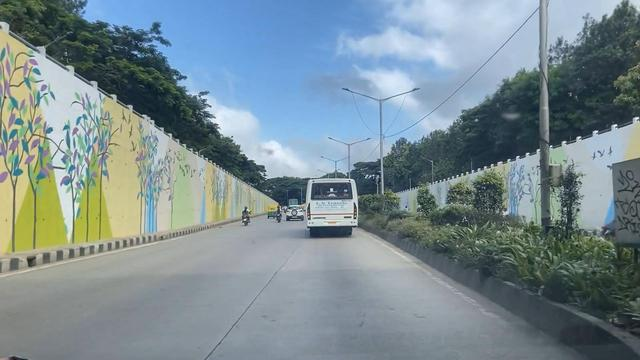HMV: (302, 177, 359, 238)
